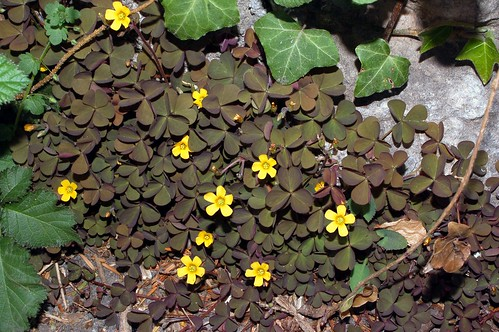oxalis: (37, 44, 452, 285)
